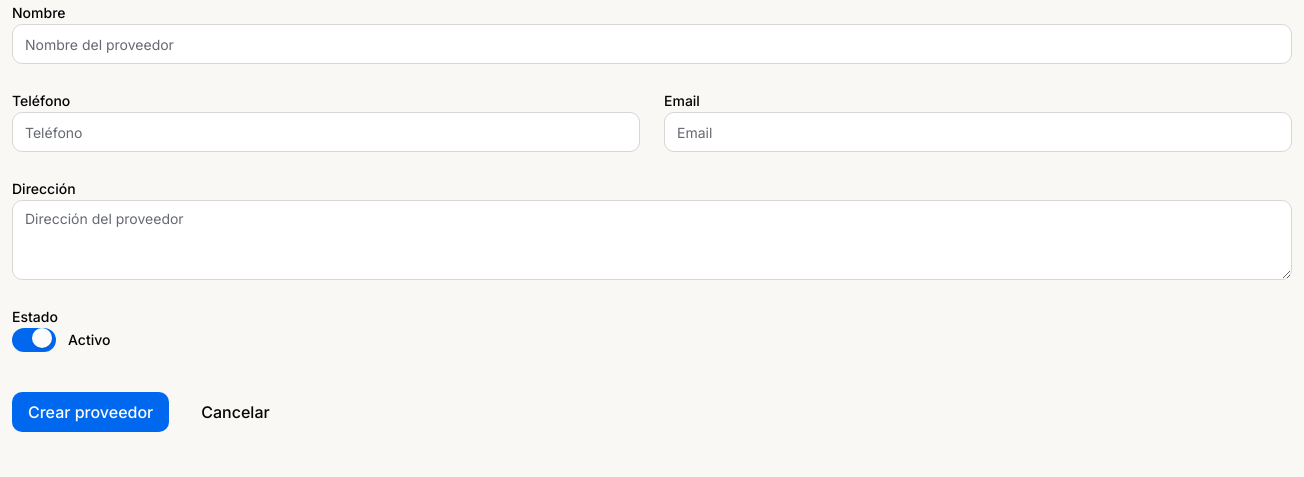
Scenario: SupplierForm › blocks submit with invalid email
In the field labelled "Nombre": (652, 44) 12,24 -> 1292,64, type "Proveedor"
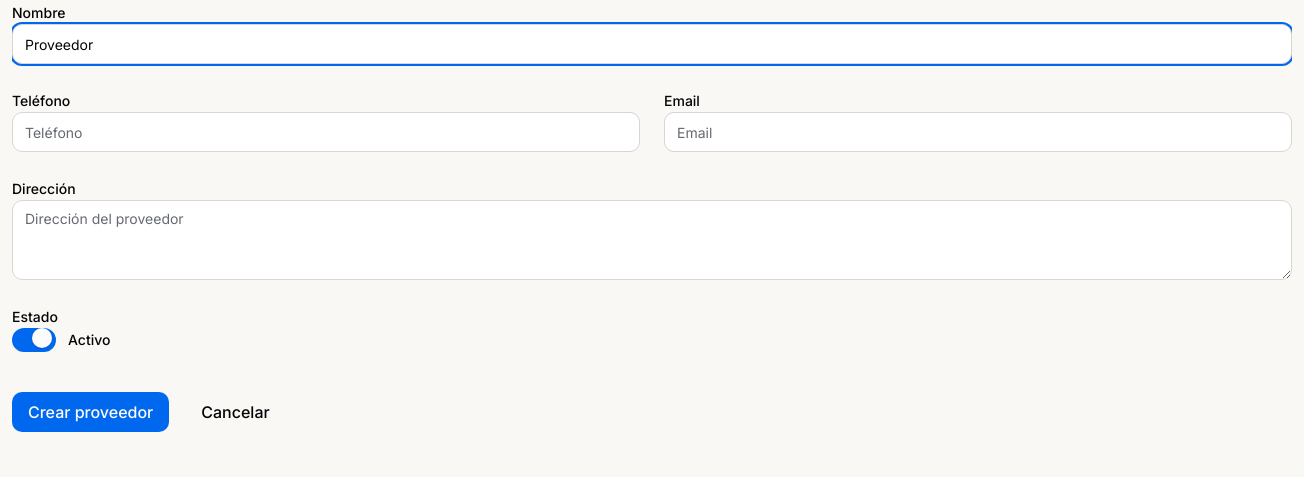
In the field labelled "Email": (978, 132) 664,112 -> 1292,152, type "not-an-email"
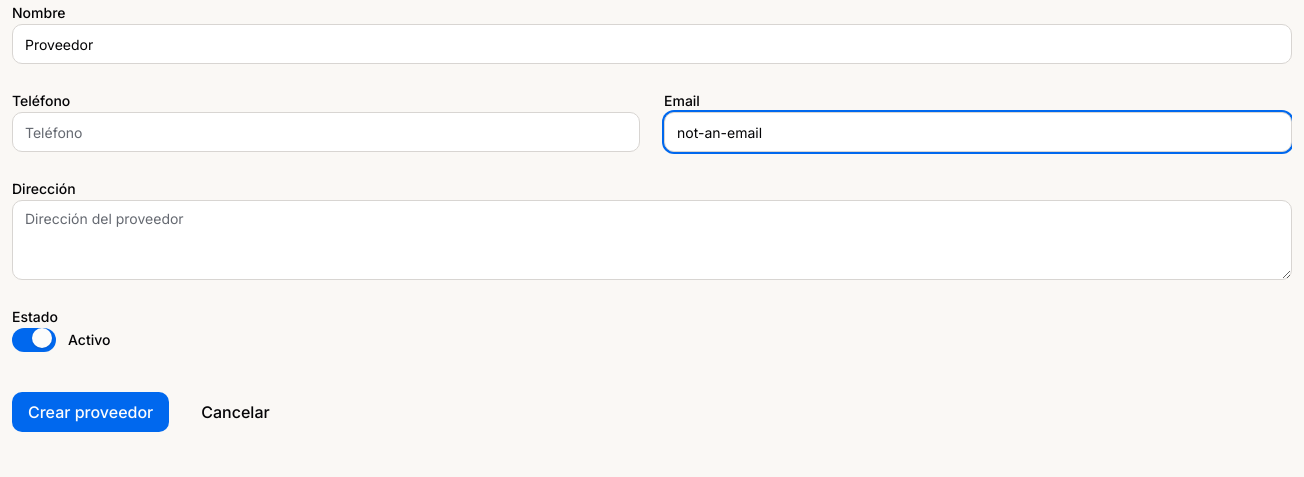
Click the button "Crear proveedor": (91, 412) 12,392 -> 169,432
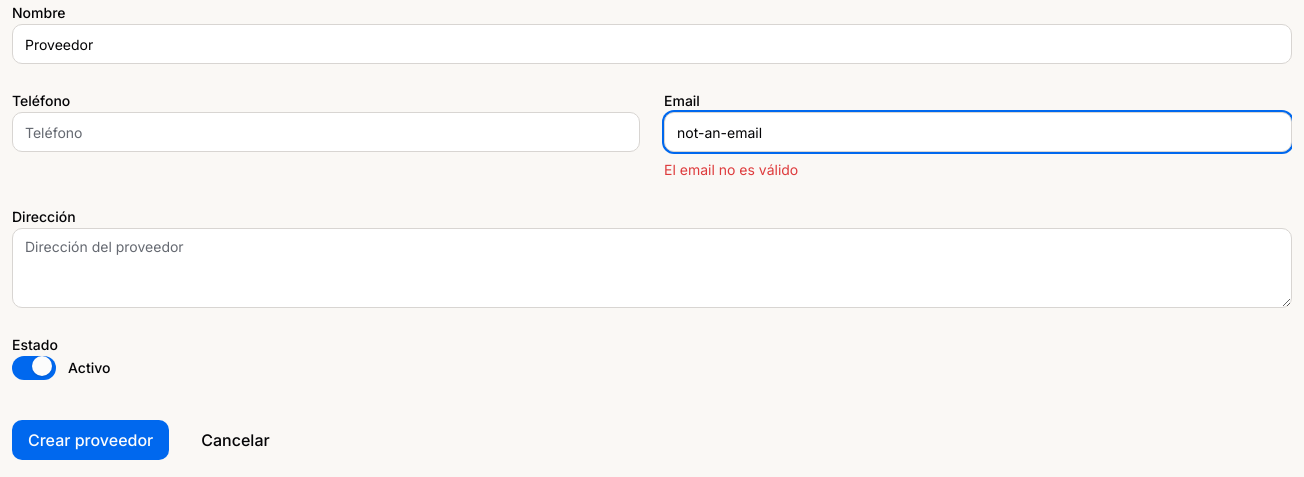
Expected: the message reads "El email no es válido", 664,161 -> 798,178
